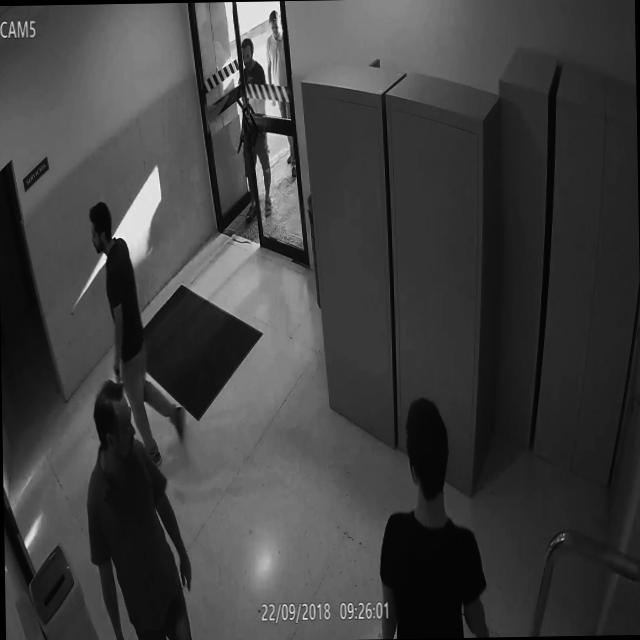gun: (237, 126, 246, 160)
person: (84, 372, 199, 640), (373, 390, 495, 639), (85, 198, 188, 465), (265, 4, 302, 181)
person with a gun: (236, 34, 274, 225)
